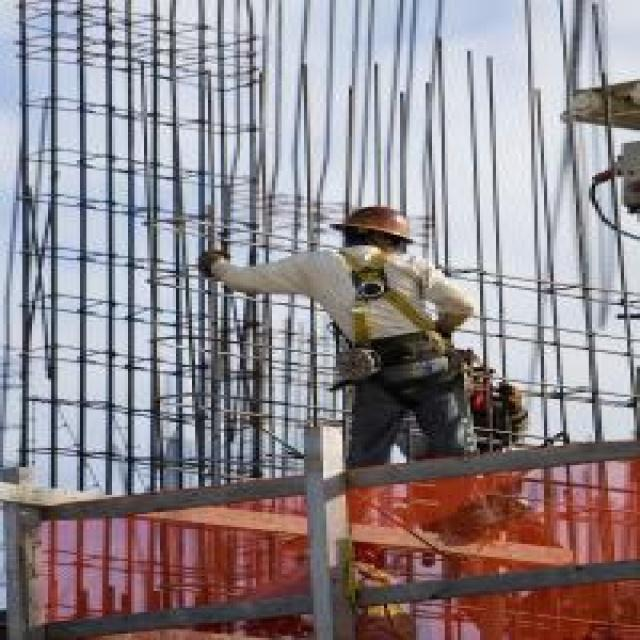helmet: (333, 263, 429, 368)
